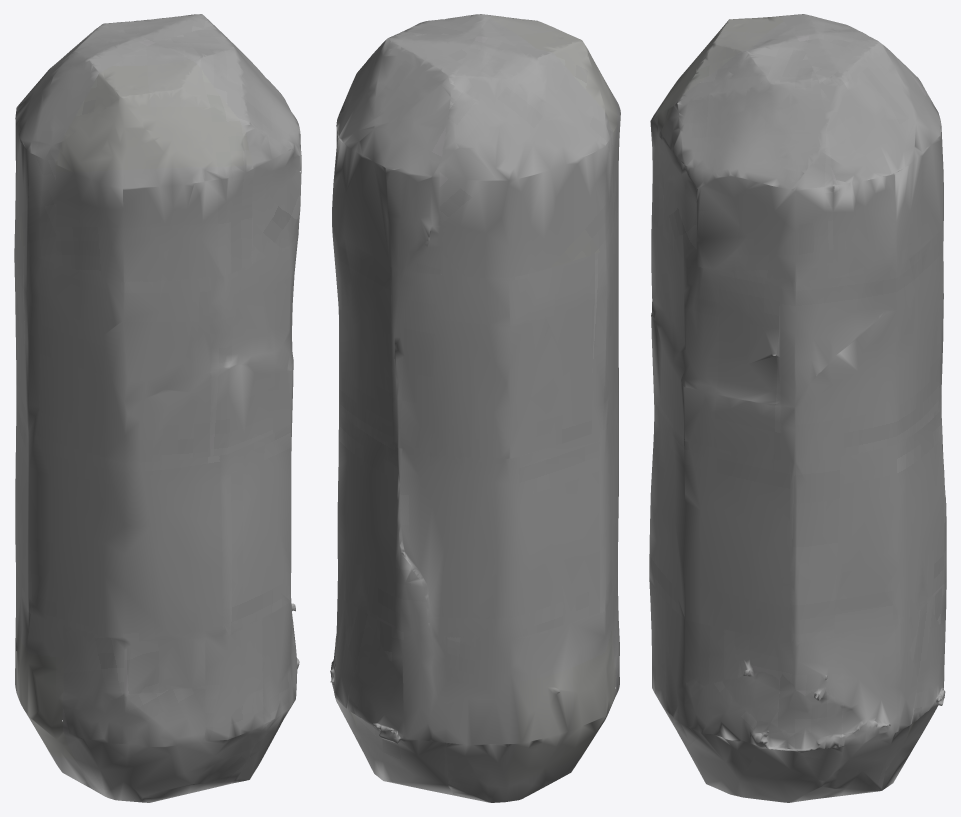
File: xs_chalk_stub.glb
3 renders of one model, left to right at view 1: azimuth 30°, elevation 25°; view 2: azimuth 150°, elevation 25°; view 3: azimuth 270°, elevation 25°, orthographic.
Visible parts, largest first — view 1: tripo_node_94af5fa9-5ace-4ba7-8338-6eb02717a065; view 2: tripo_node_94af5fa9-5ace-4ba7-8338-6eb02717a065; view 3: tripo_node_94af5fa9-5ace-4ba7-8338-6eb02717a065.
Part boxes in pixels (bbox=[...]): tripo_node_94af5fa9-5ace-4ba7-8338-6eb02717a065: bbox=[14, 14, 301, 802]; tripo_node_94af5fa9-5ace-4ba7-8338-6eb02717a065: bbox=[330, 14, 620, 802]; tripo_node_94af5fa9-5ace-4ba7-8338-6eb02717a065: bbox=[649, 14, 946, 802].
Bounding box in the file's own units: 0.376 × 0.9998 × 0.3736.
1 material, 1 textured.
